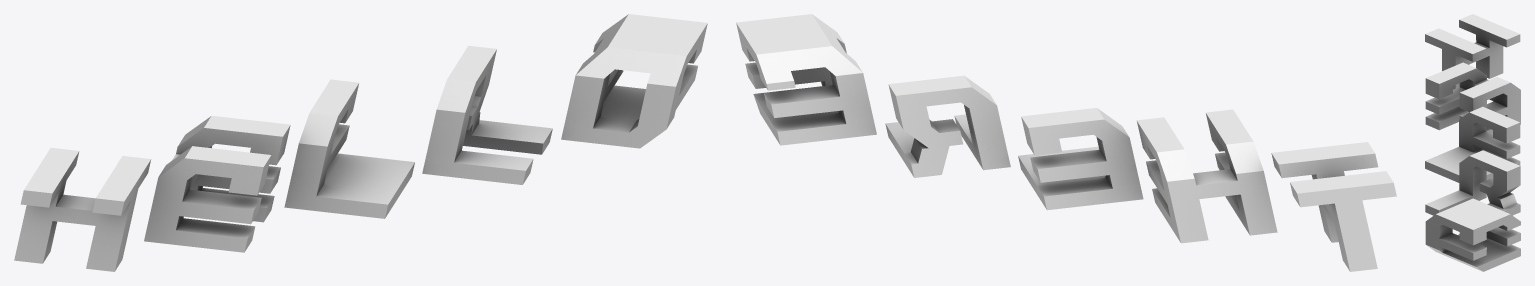
The model's file is hello.glb.
The picture shows the model from 3 angles, left to right: view 1: azimuth 30°, elevation 25°; view 2: azimuth 150°, elevation 25°; view 3: azimuth 270°, elevation 25°; orthographic projection. The views are drawn at different scales.
Parts seen in each view (by area): view 1: Hello There; view 2: Hello There; view 3: Hello There.
Boxes of the visible parts, box(x1,y1,x2,y2) form: Hello There: box(14, 14, 707, 271); Hello There: box(736, 14, 1396, 271); Hello There: box(1425, 14, 1520, 271).
Bounding box in the file's own units: 5.34 × 0.6 × 0.9965.
Materials: 1 (1 with a texture image).
